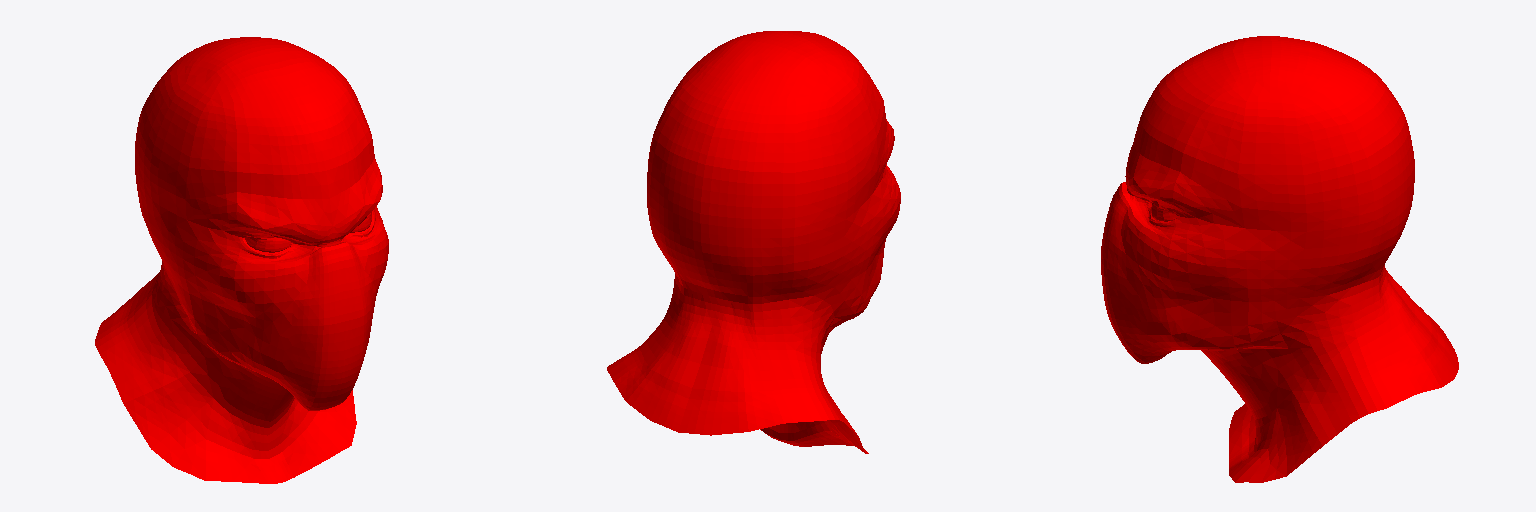
The model's file is ninjaHead_Low.obj.
The picture shows the model from 3 angles: view 1: azimuth 30°, elevation 25°; view 2: azimuth 150°, elevation 25°; view 3: azimuth 270°, elevation 25°; orthographic projection.
Bounding box in the file's own units: 17.67 × 31.39 × 24.48.